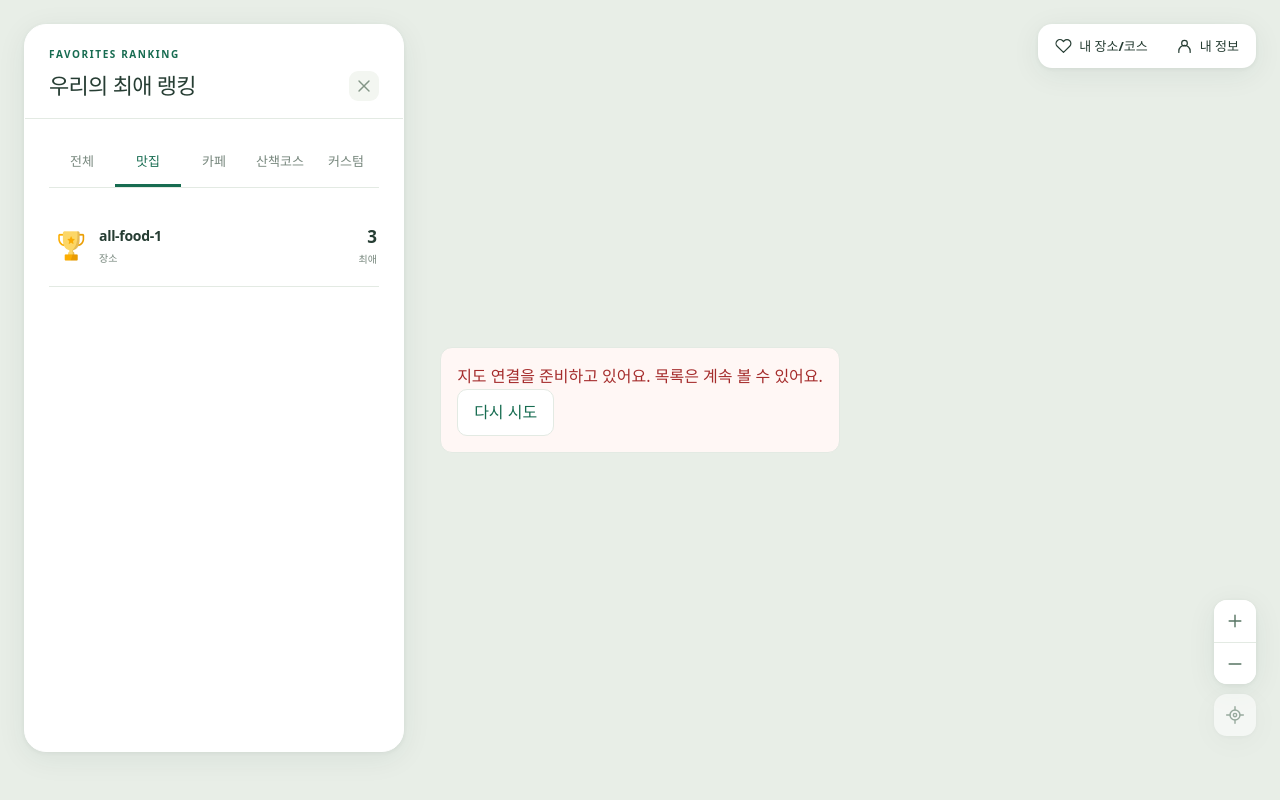
Test: defaults anonymous custom to all teams and categories, retaining selections across tabs
expect the link "all-food-1 장소 3 최애" is shown: met, box left=49, top=206, right=379, bottom=286
Click the tab "커스텀". click: (346, 162)
box: left=313, top=138, right=379, bottom=186
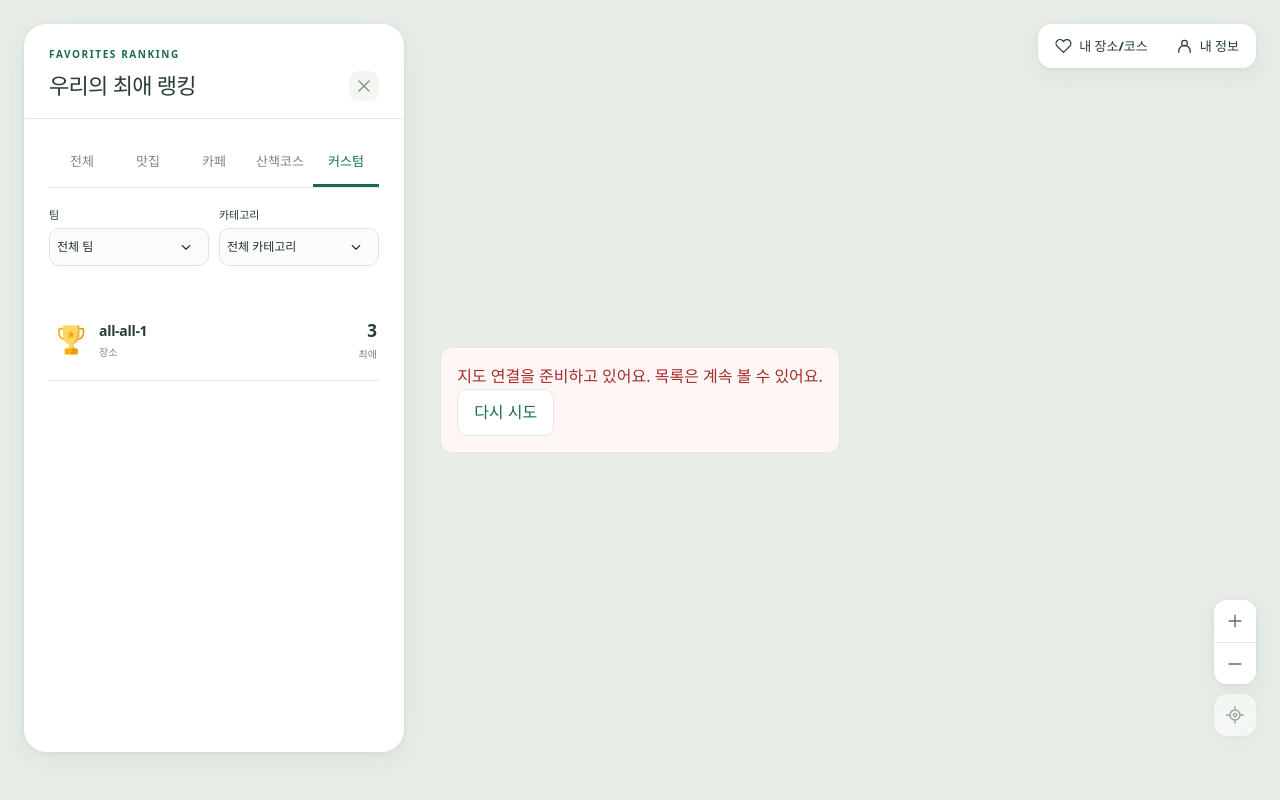
expect the dropdown named "팀 필터" is shown: met
expect the link "all-all-1 장소 3 최애" is shown: met, box left=49, top=300, right=379, bottom=380
Select "A팀" in the dropdown named "팀 필터". click: (129, 247)
box: left=49, top=228, right=209, bottom=266
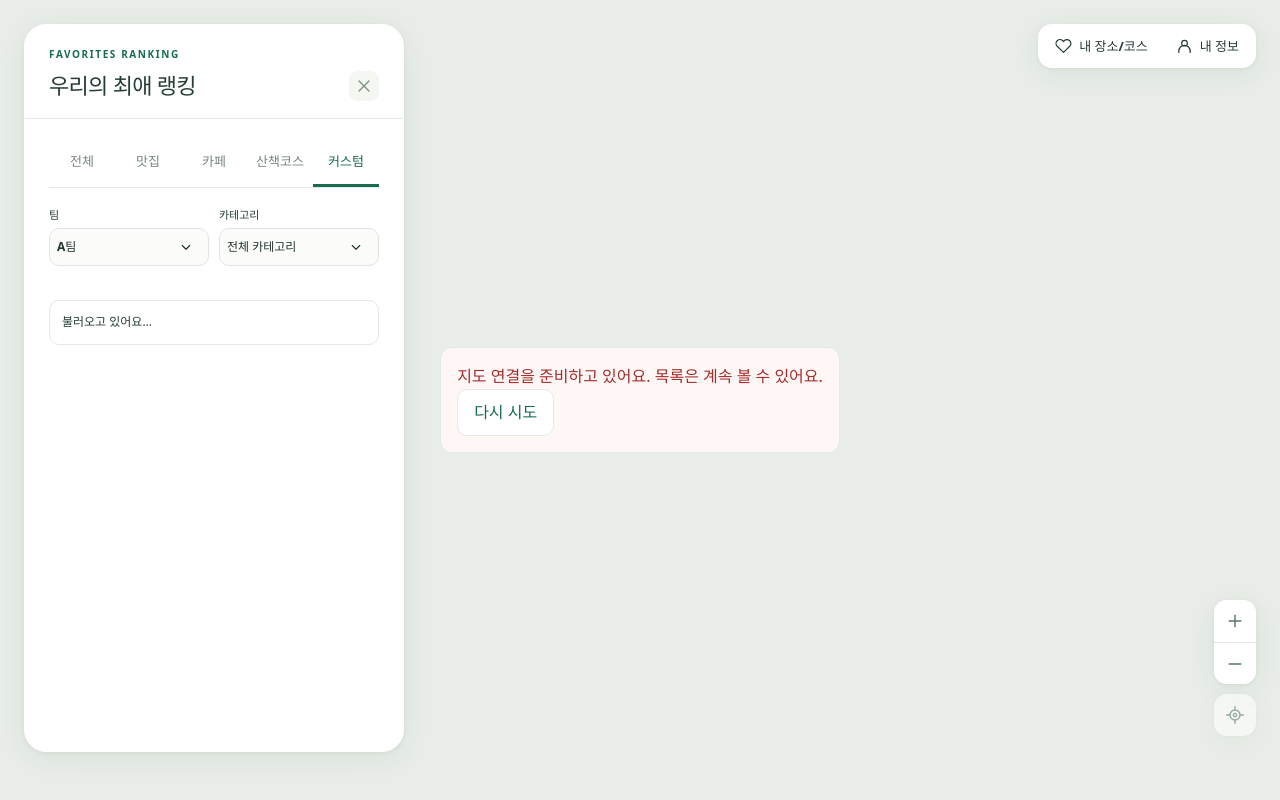
Select "카페" in the dropdown named "카테고리 필터". click: (299, 247)
box: left=219, top=228, right=379, bottom=266
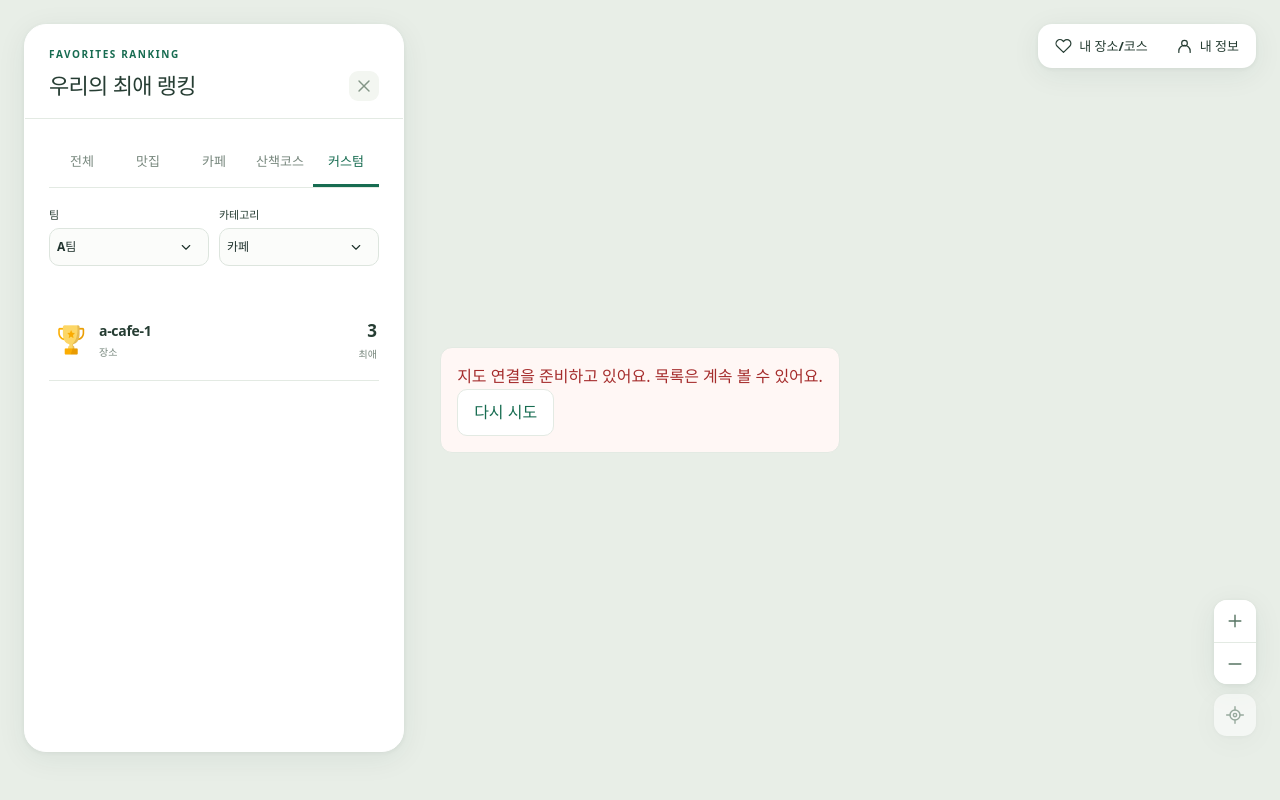
expect the link "a-cafe-1 장소 3 최애" is shown: met, box left=49, top=300, right=379, bottom=380
Click the tab "전체". click: (82, 162)
box: left=49, top=138, right=115, bottom=186
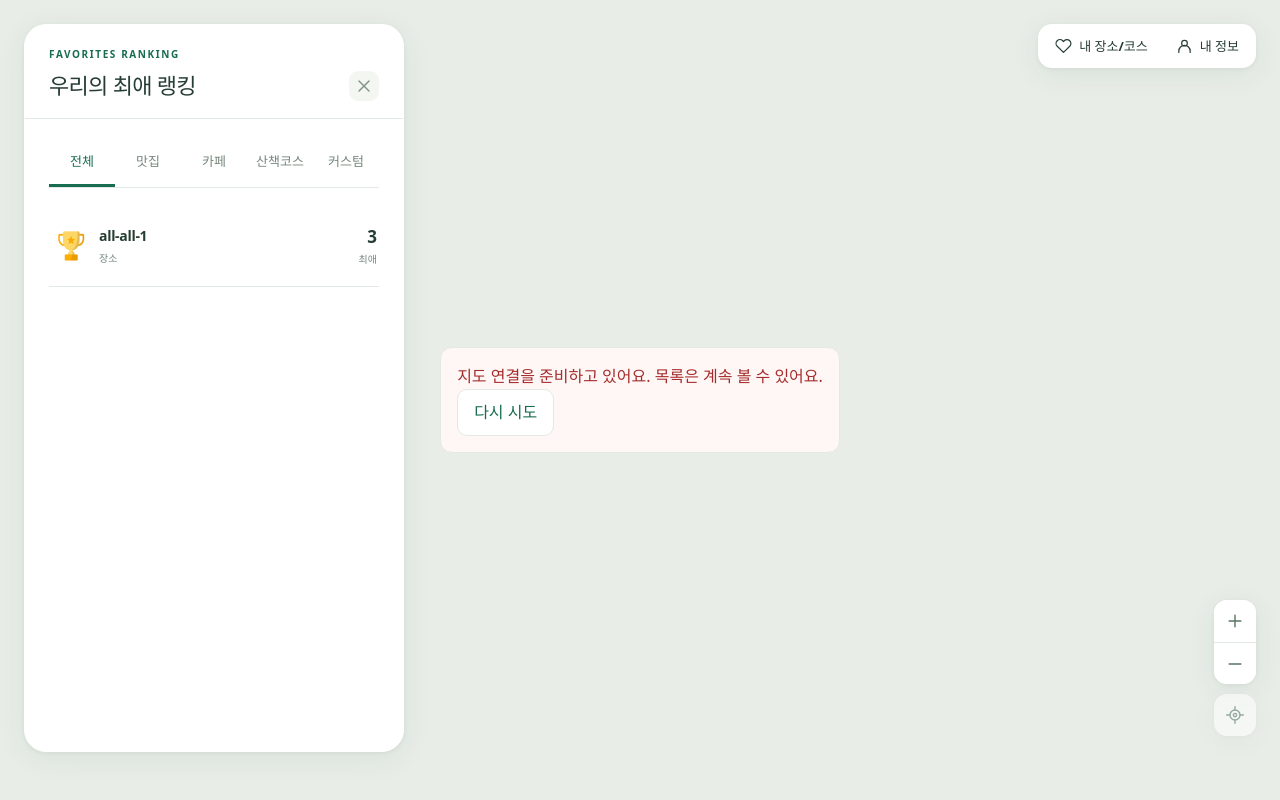
expect the link "all-all-1 장소 3 최애" is shown: met, box left=49, top=206, right=379, bottom=286
Click the tab "커스텀". click: (346, 162)
box: left=313, top=138, right=379, bottom=186
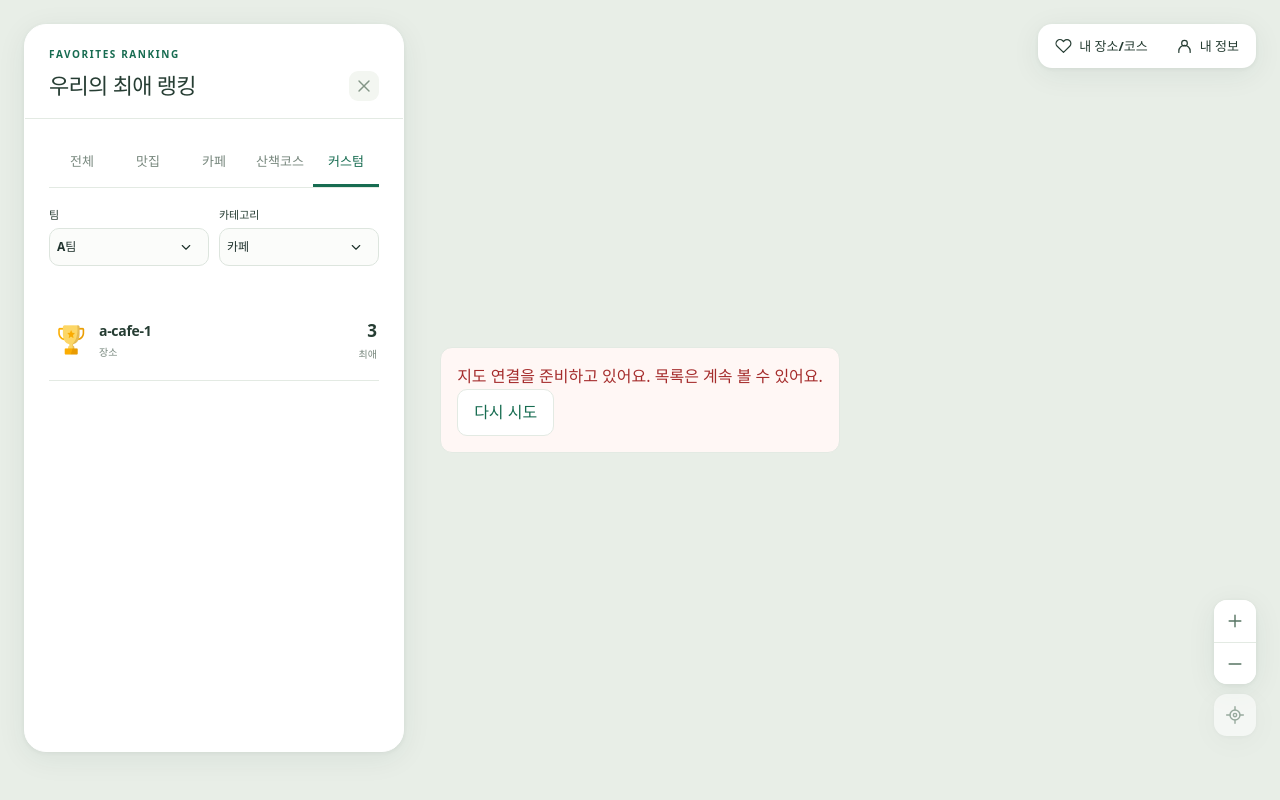
expect the link "a-cafe-1 장소 3 최애" is shown: met, box left=49, top=300, right=379, bottom=380
